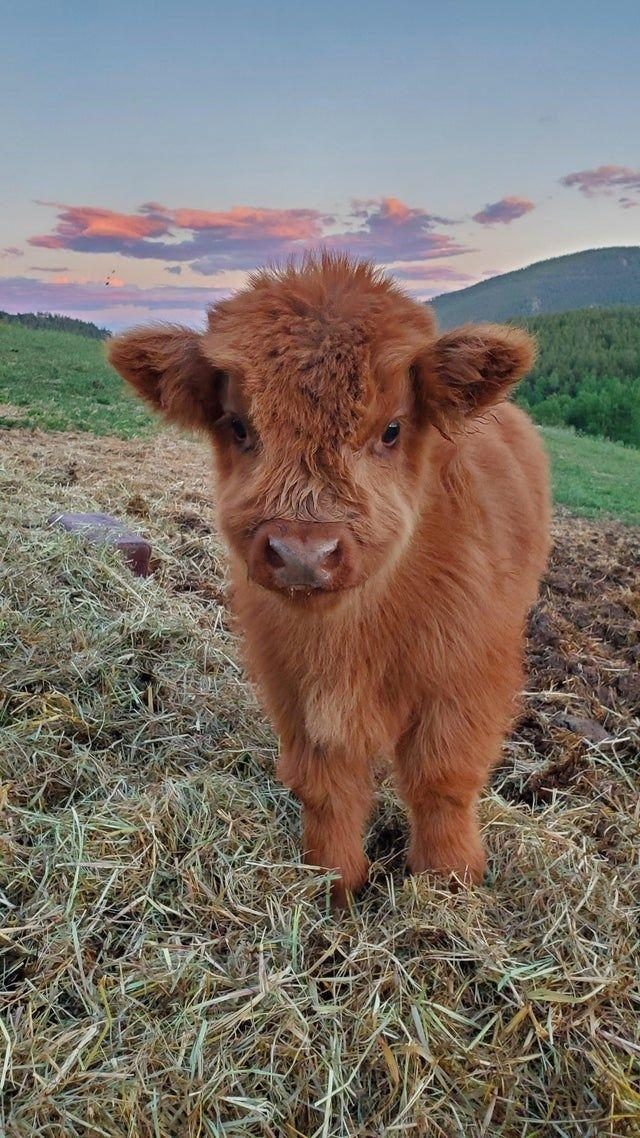cow: (117, 270, 610, 960)
